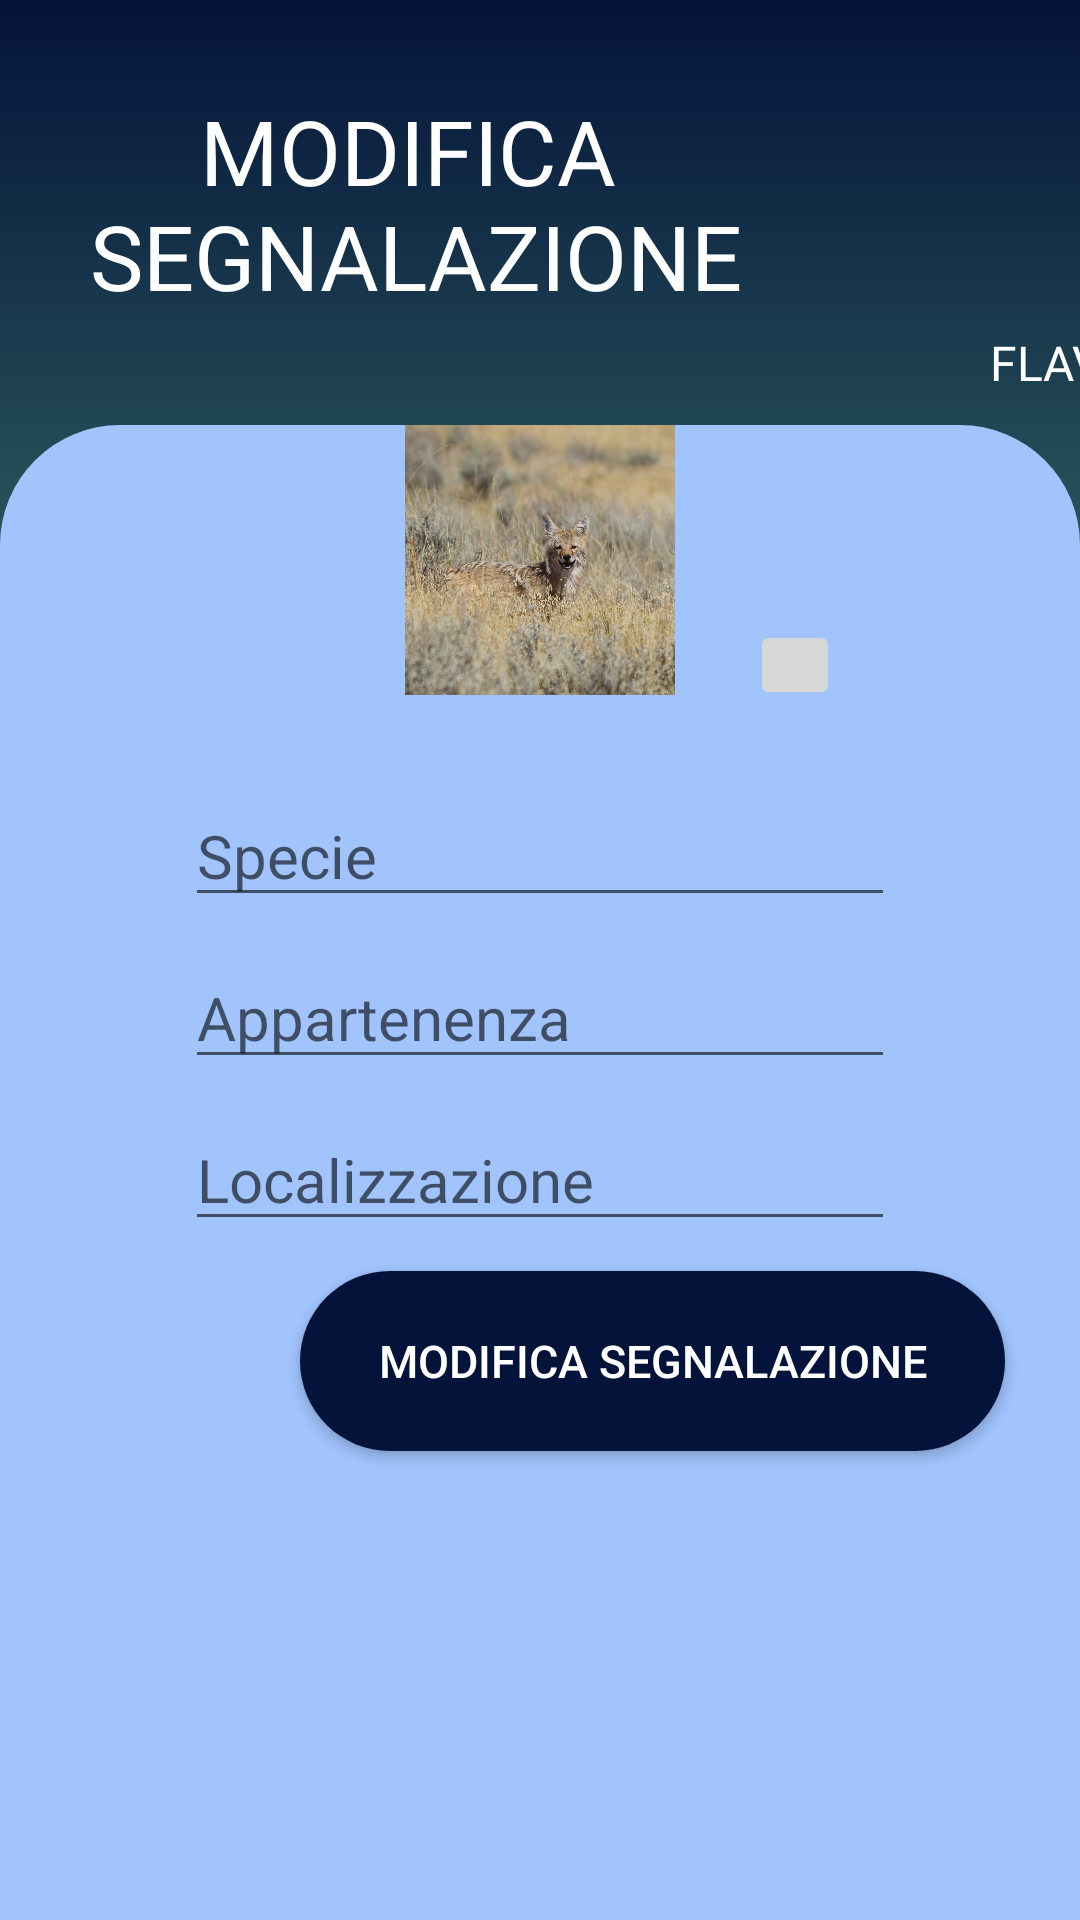

Icons on this 1080w x 1920h Android screen, each with its box as region(x1, y1, x2, y2):
coyote: region(405, 425, 675, 695)
